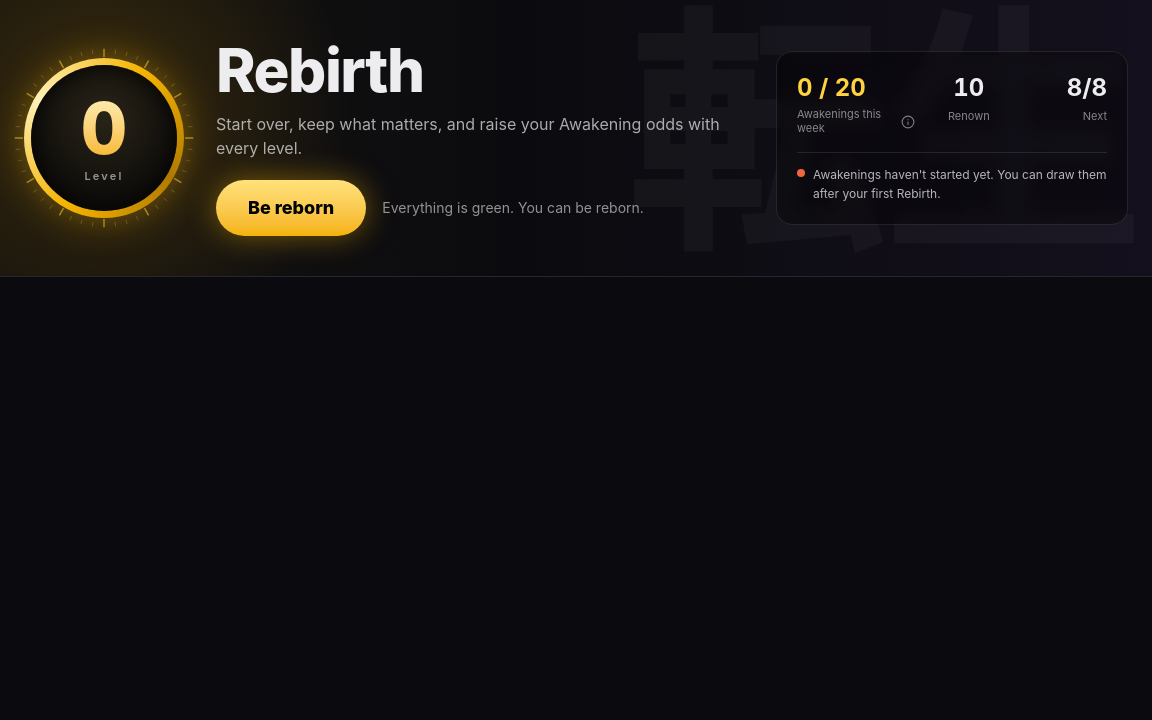
Test case: RebirthFlow › refreshes the page when the road isn't complete anymore
Step 1. Click the button "Be reborn" → (291, 208), box [216, 180, 366, 236]
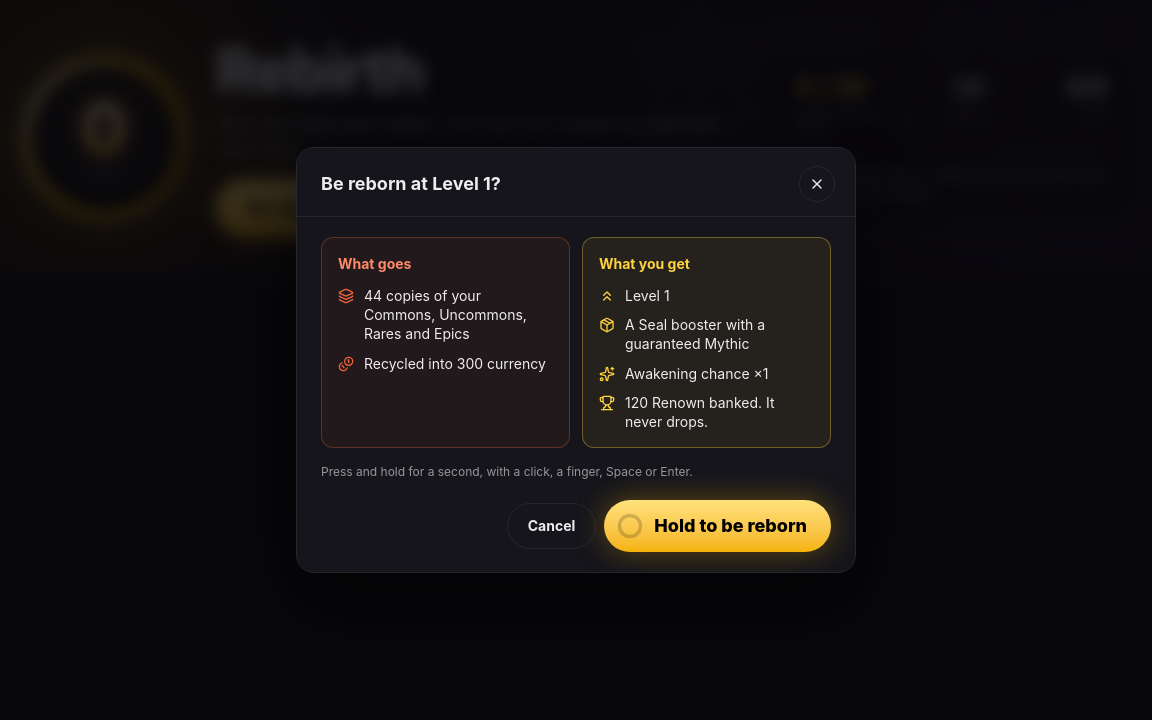
Step 2. Press the mouse on the button "Hold to be reborn" → (718, 526), box [604, 500, 831, 552]
Wait 1250 ms
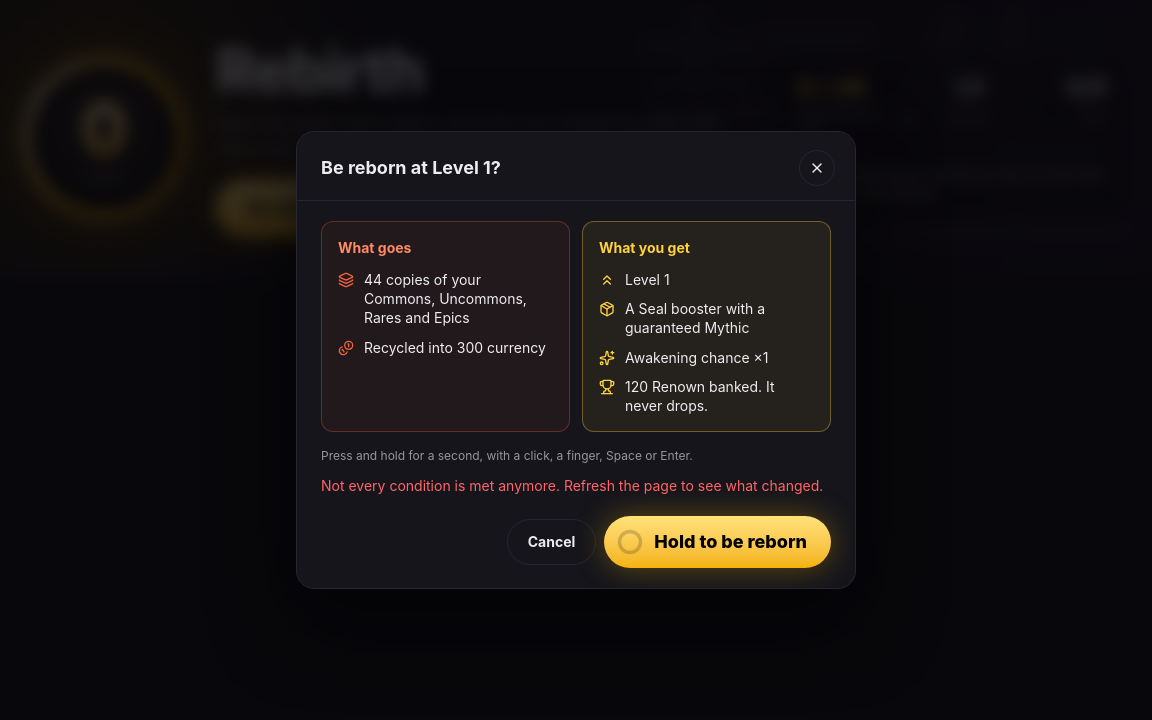
Expected: the message reads "Not every condition is met anymore. Refresh the page to see what changed.", [321, 477, 823, 494]
